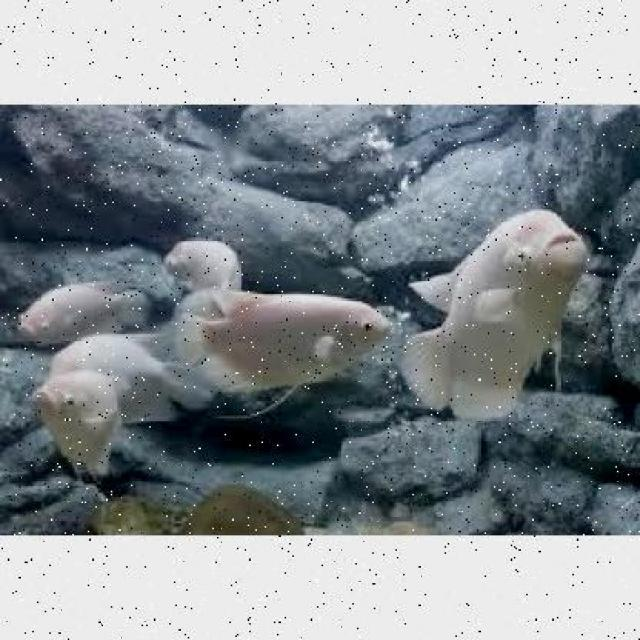gurame: (412, 213, 578, 421), (185, 283, 390, 403), (30, 368, 133, 478), (9, 278, 145, 344)
